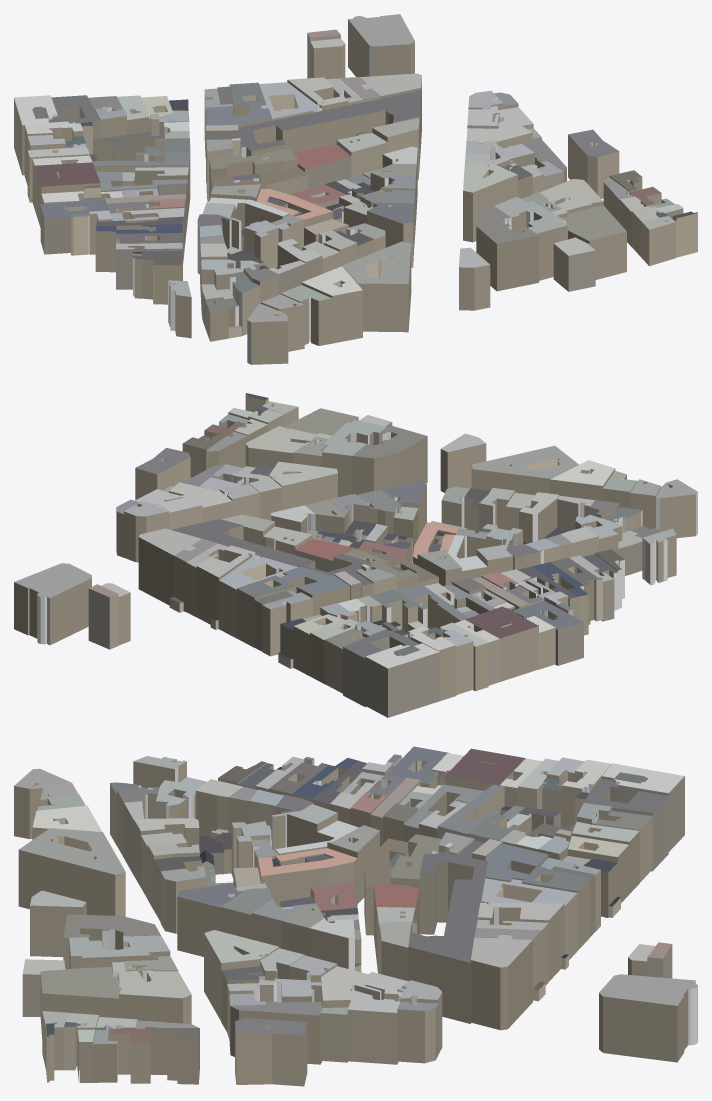
3 renders of one model, top to bottom at view 1: azimuth 30°, elevation 25°; view 2: azimuth 150°, elevation 25°; view 3: azimuth 270°, elevation 25°, orthographic. The views are drawn at different scales.
Parts seen in each view (by area): view 1: tuile; view 2: tuile; view 3: tuile.
Boxes of the visible parts, bbox=[...] form: tuile: bbox=[14, 14, 697, 364]; tuile: bbox=[14, 393, 697, 717]; tuile: bbox=[14, 746, 697, 1086].
Bounding box in the file's own units: 271 × 32.63 × 271.
